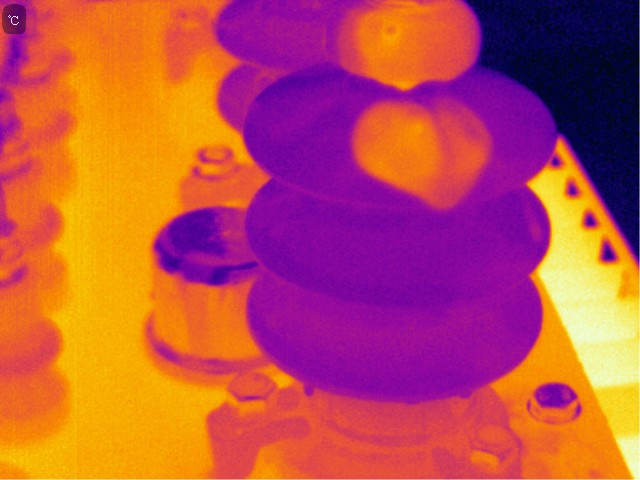Oil: (351, 93, 499, 221), (322, 1, 480, 92), (513, 188, 543, 259), (299, 375, 319, 397), (454, 387, 474, 400)
